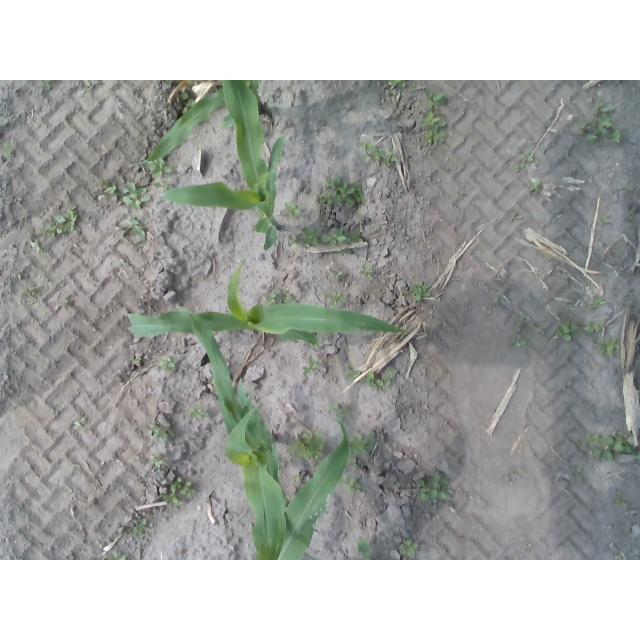Maize: (176, 305, 285, 560), (125, 261, 408, 346), (161, 81, 284, 250), (131, 81, 273, 166), (285, 420, 351, 561)
Weeds: (580, 99, 625, 146), (316, 170, 368, 208), (286, 228, 364, 253), (584, 430, 640, 463), (420, 87, 449, 147), (286, 431, 329, 461), (41, 204, 80, 236), (419, 470, 454, 502), (161, 477, 196, 509), (359, 140, 398, 166), (506, 311, 531, 350), (140, 421, 177, 444), (365, 366, 399, 390), (115, 217, 147, 242), (124, 512, 154, 538), (122, 183, 150, 210), (350, 429, 379, 455), (552, 321, 580, 344), (97, 179, 120, 205), (595, 336, 622, 356), (407, 281, 431, 302), (264, 292, 298, 306), (324, 290, 349, 309), (515, 151, 536, 173), (503, 466, 526, 486), (148, 159, 172, 178), (186, 405, 211, 423), (329, 401, 351, 421), (584, 321, 609, 338), (158, 354, 178, 375), (303, 354, 322, 376), (357, 537, 375, 560), (397, 539, 419, 557), (279, 202, 302, 218), (180, 91, 196, 114), (342, 475, 362, 492), (29, 236, 46, 256), (2, 140, 19, 159), (21, 286, 40, 303), (78, 80, 95, 96), (327, 268, 343, 285), (358, 265, 374, 282), (153, 181, 172, 194), (73, 416, 88, 432), (38, 80, 55, 94), (572, 465, 584, 484), (529, 181, 544, 196), (346, 364, 362, 378), (615, 492, 628, 509), (152, 454, 166, 469), (530, 324, 546, 337), (107, 550, 127, 560), (593, 296, 607, 309), (611, 242, 621, 259), (62, 298, 76, 310), (621, 181, 635, 193), (131, 356, 144, 368), (353, 461, 368, 471), (388, 81, 406, 88), (491, 297, 501, 307), (600, 216, 609, 227), (565, 303, 575, 312), (292, 475, 302, 483), (392, 482, 401, 489)
